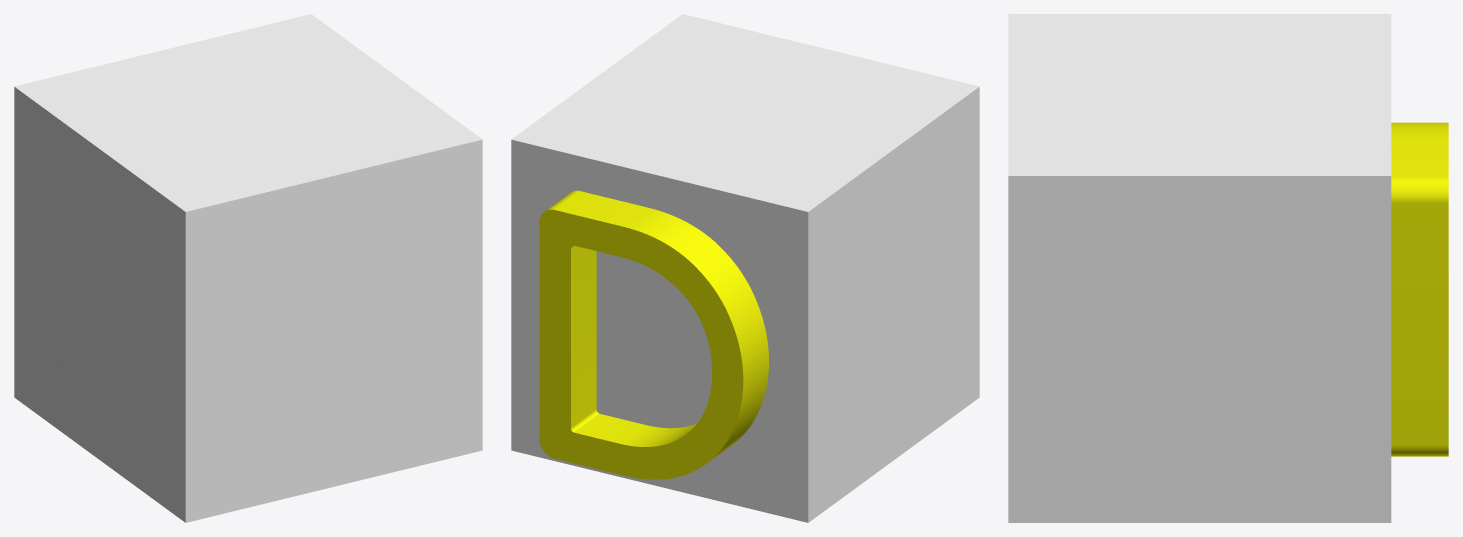
3 views of the same model, side by side, from view 1: azimuth 30°, elevation 25°; view 2: azimuth 150°, elevation 25°; view 3: azimuth 270°, elevation 25° (orthographic). The views are drawn at different scales.
Parts seen in each view (by area): view 1: 立方体; view 2: 立方体, テキスト; view 3: 立方体, テキスト.
Part boxes in pixels (x1,y1,x2,y2): 立方体: [14, 14, 482, 522]; 立方体: [511, 14, 979, 522]; テキスト: [539, 190, 768, 479]; 立方体: [1008, 14, 1391, 522]; テキスト: [1391, 122, 1448, 456].
Bounding box in the file's own units: 2 × 2 × 2.3.
Materials: 1 (1 with a texture image).
